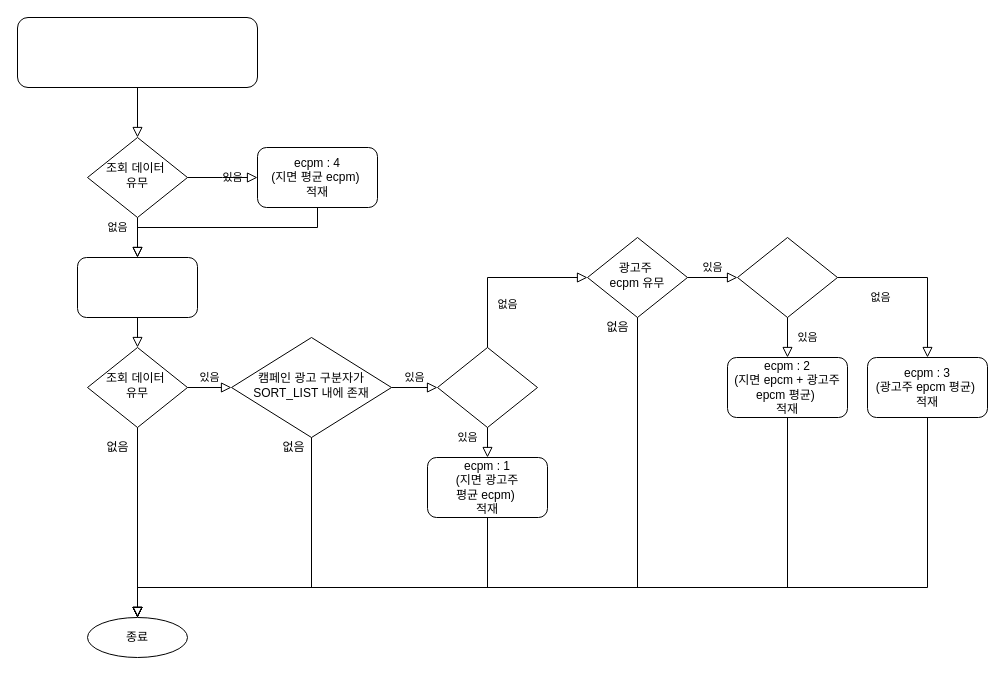
The diagram is 1005 pixels wide and 675 high, and some of its shapes have lost their labels. The shapes that lost their labels are listed below. From the top down, each one's centre as x and y in pixels, then its label:
At (137,52): "클릭수 5이상 or 노출 5000 이상이면서 클릭수 존재 지면 조회".
At (137,287): "캠페인(이벤트) 리스트 조회".
At (787,277): "지면 평균 epcm 존재".
At (487,387): "지면의 광고주 ecpm 유무".
